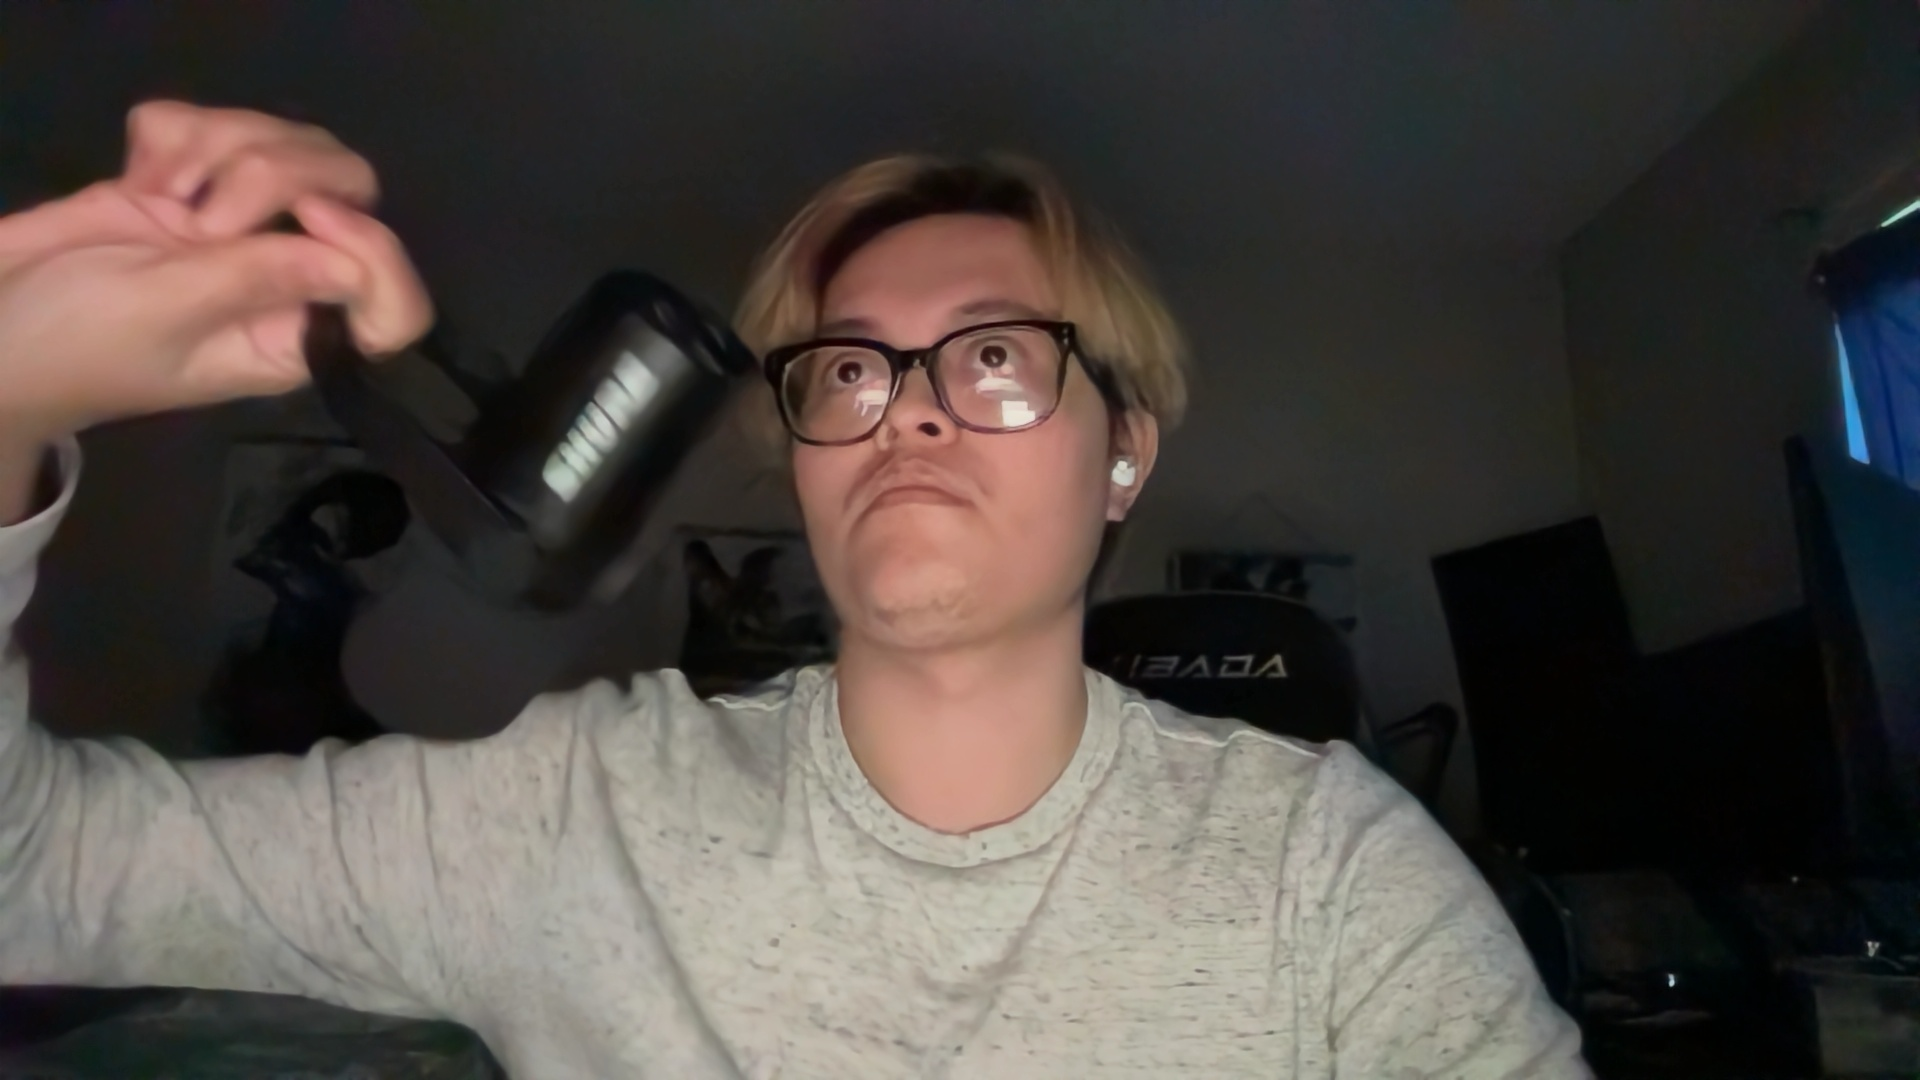microphone: (316, 255, 761, 769)
